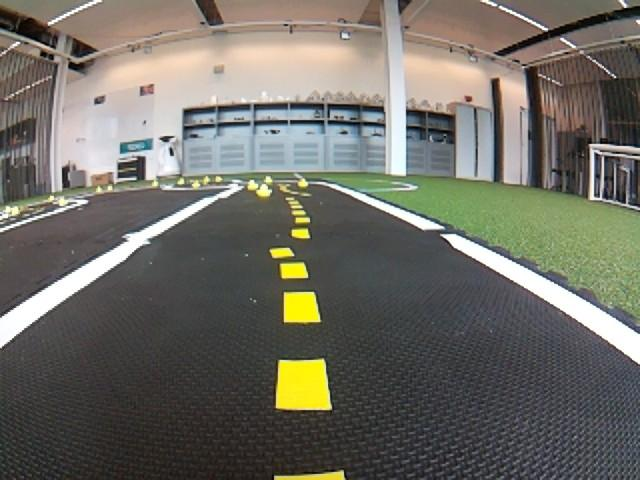Duckies: (256, 184, 272, 199), (247, 179, 258, 191), (57, 196, 68, 205), (298, 179, 308, 187), (10, 207, 20, 215), (192, 180, 201, 188), (94, 187, 103, 195), (151, 180, 160, 188), (264, 176, 273, 183), (47, 196, 56, 203), (177, 178, 185, 185), (202, 177, 210, 184), (215, 175, 222, 182), (106, 185, 113, 192), (3, 207, 11, 212)
